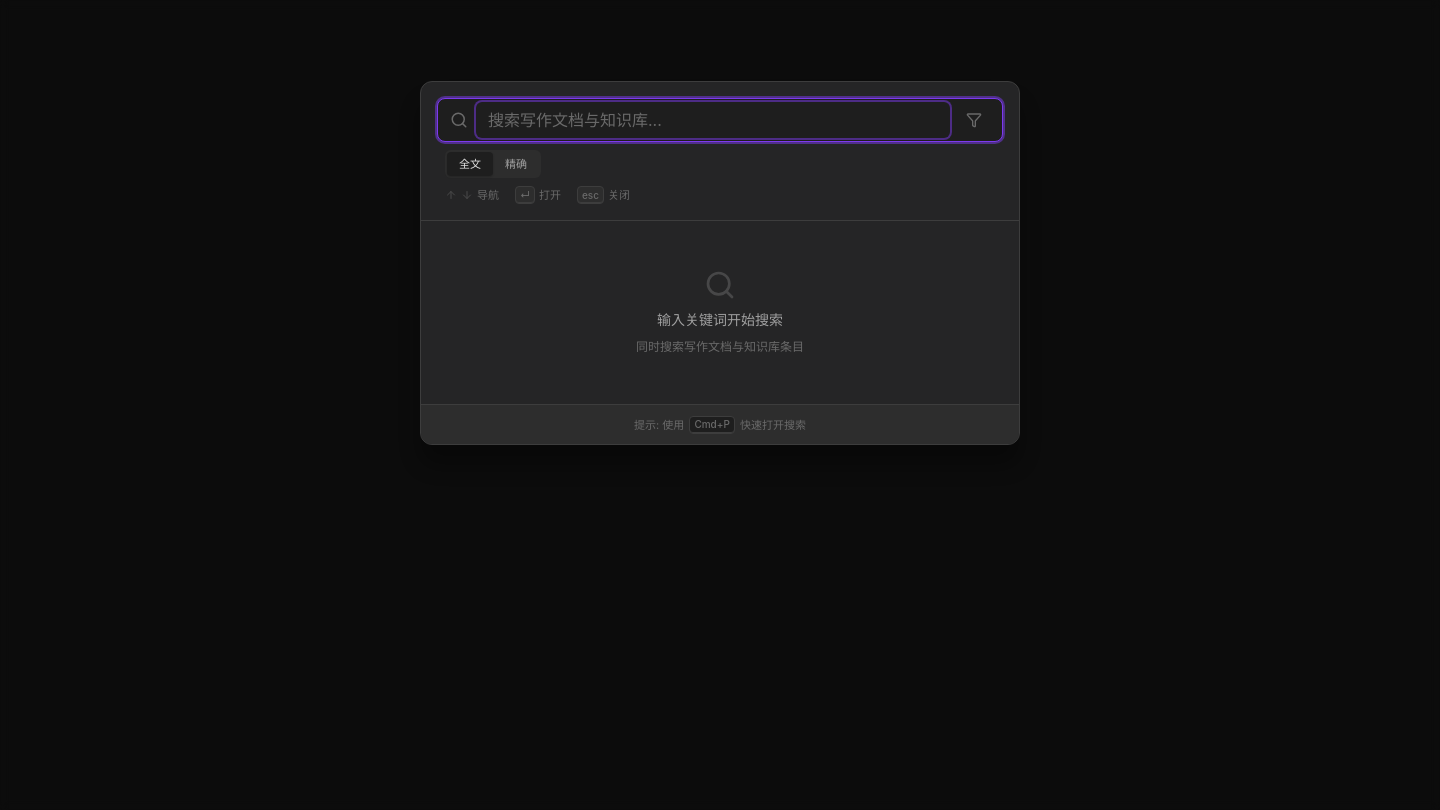
SearchPanel › 精确查找 › 编辑中尚未保存的内容参与查找：覆盖数据库中的旧正文，数据库正文为空的条目也能找到
This screenshot has width=1440, height=810.
Click the tab "精确".
click(516, 164)  # box [493,152,539,176]
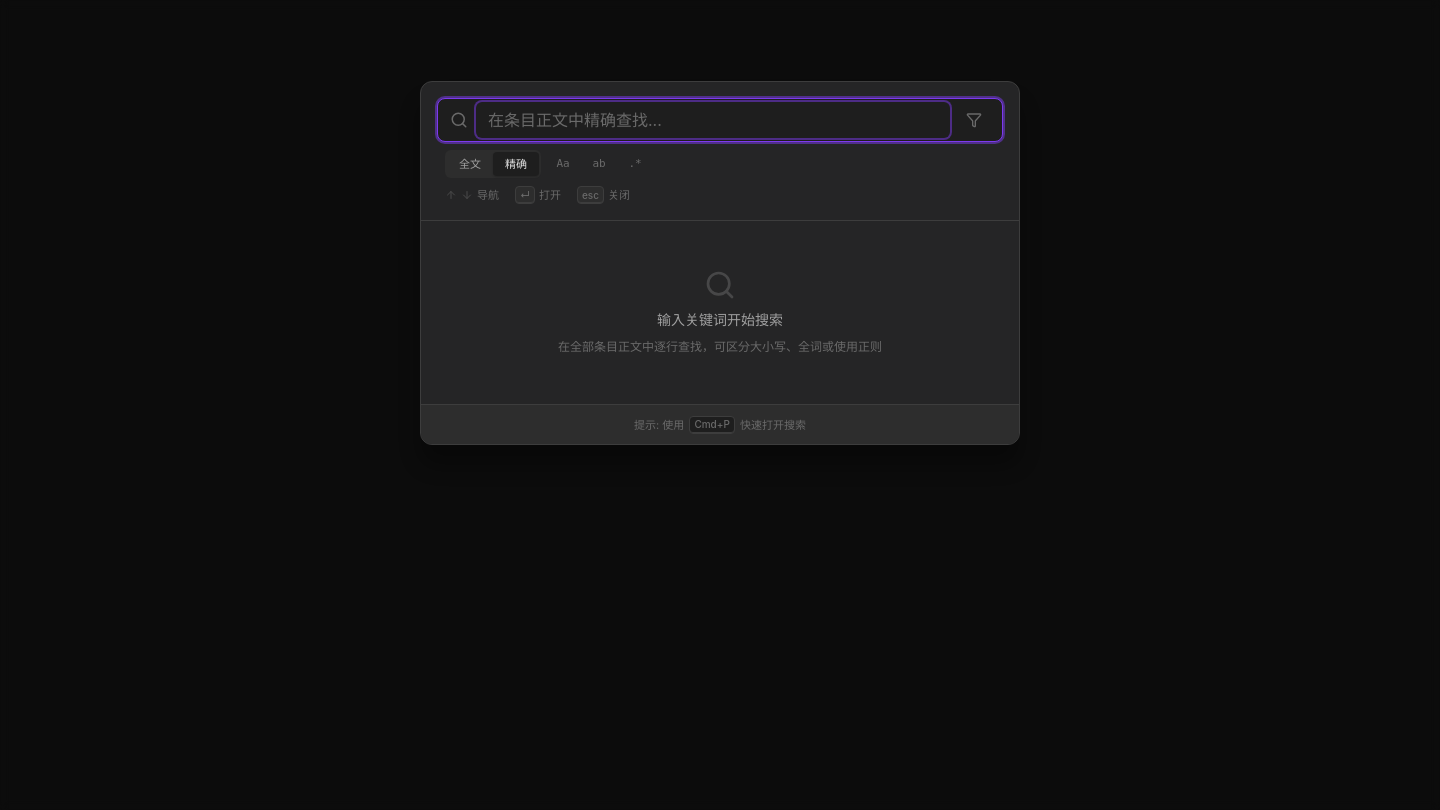
Type "unsaved" into the field named "搜索".
click(713, 120); type("unsaved")  # box [476,102,950,138]
Wait 300 ms
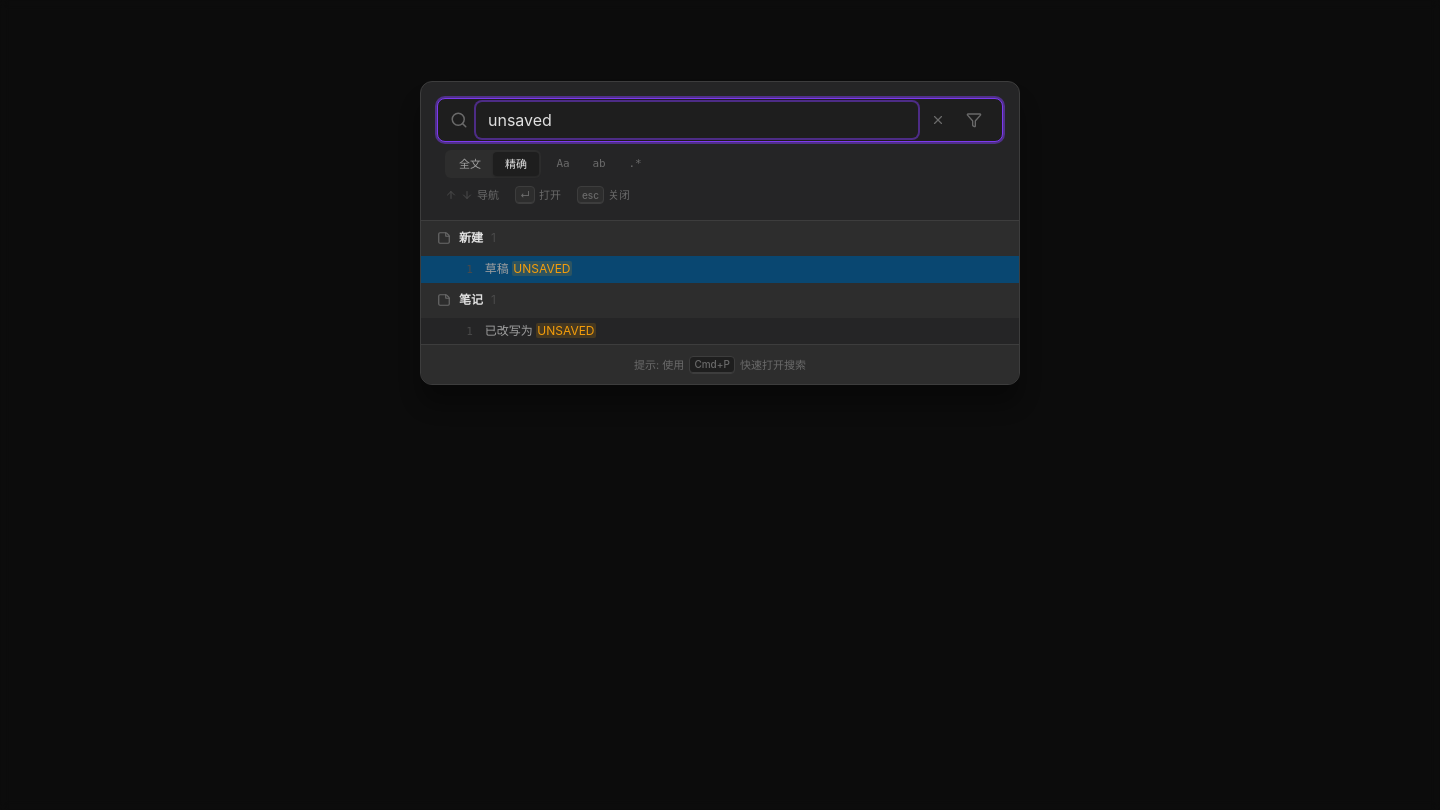
Result: the element "笔记" shows "已改写为 UNSAVED" at [421,282,1019,344]
Result: the element "新建" shows "草稿 UNSAVED" at [421,221,1019,282]
